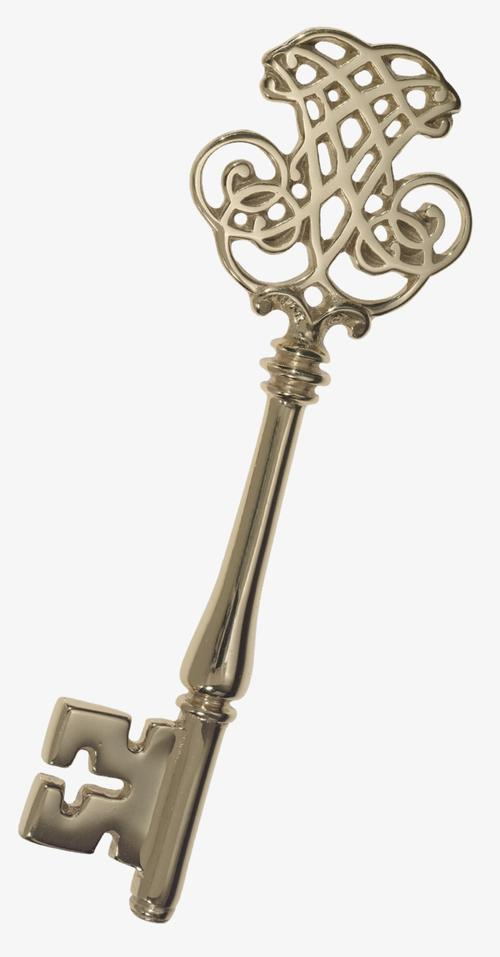key: (8, 12, 492, 931)
